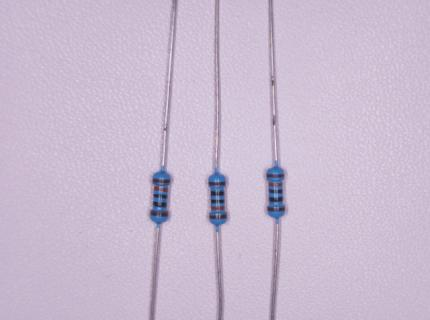Black band: (269, 197, 283, 202), (210, 191, 224, 196), (269, 189, 282, 194), (154, 194, 167, 199), (153, 202, 166, 207), (211, 200, 224, 203)
Brown band: (150, 211, 168, 217), (153, 178, 170, 183), (210, 214, 227, 219), (267, 207, 285, 211), (209, 182, 226, 185), (267, 174, 284, 177)
Orange band: (154, 186, 168, 192), (211, 206, 225, 210), (268, 183, 282, 186)
